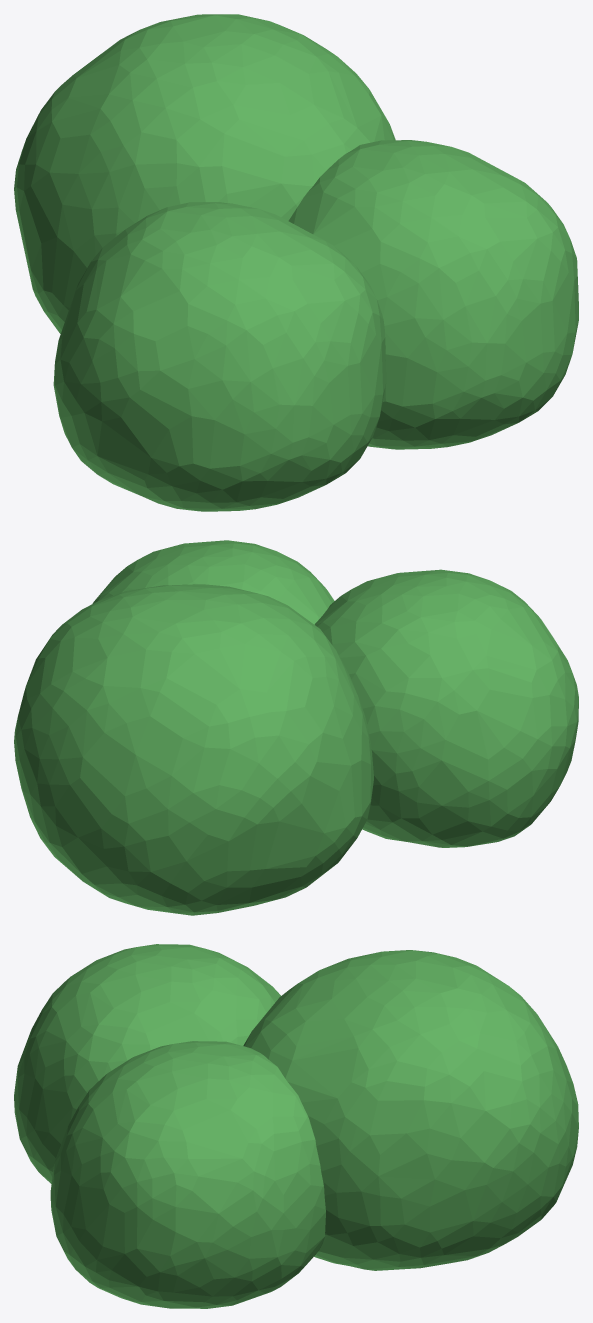
Rendered from arbustoPeqVarios3.glb.
3 renders of one model, top to bottom at view 1: azimuth 30°, elevation 25°; view 2: azimuth 150°, elevation 25°; view 3: azimuth 270°, elevation 25°, orthographic. The views are drawn at different scales.
Visible parts, largest first — view 1: Icosphere.001; view 2: Icosphere.001; view 3: Icosphere.001.
Part boxes in pixels (x1,y1,x2,y2): Icosphere.001: [14, 14, 578, 511]; Icosphere.001: [14, 540, 578, 915]; Icosphere.001: [14, 944, 578, 1308].
Bounding box in the file's own units: 0.3101 × 0.1856 × 0.3406.
